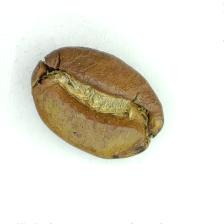NG: (45, 60, 150, 141)
